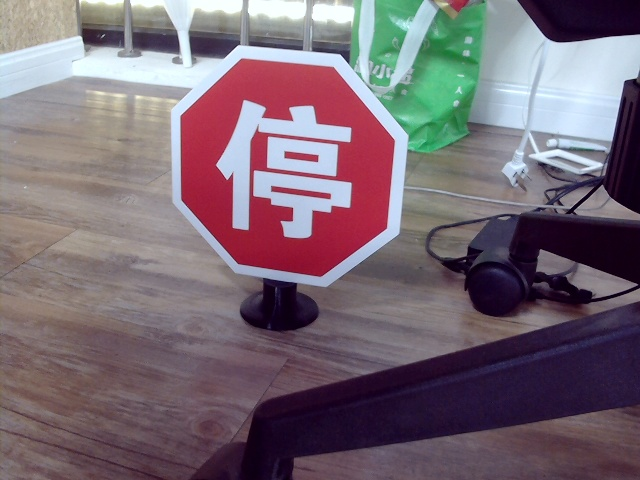stop: (216, 93, 352, 238)
